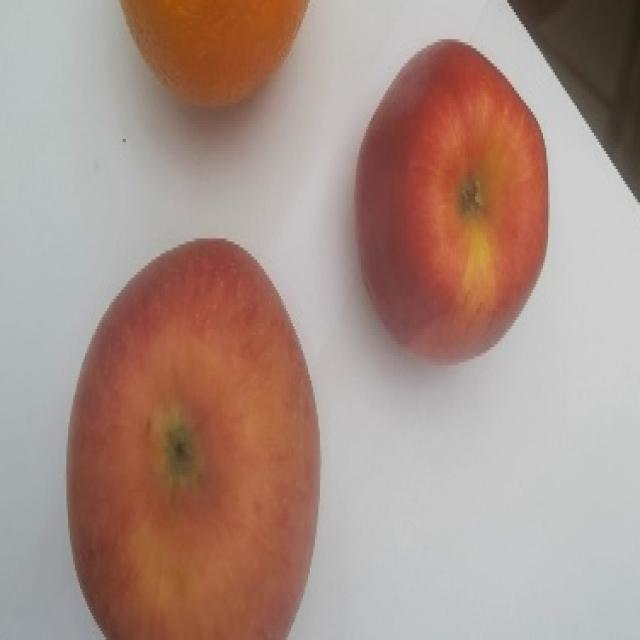Apple: (60, 232, 330, 640), (356, 35, 551, 366)
Orange: (117, 0, 309, 109)
